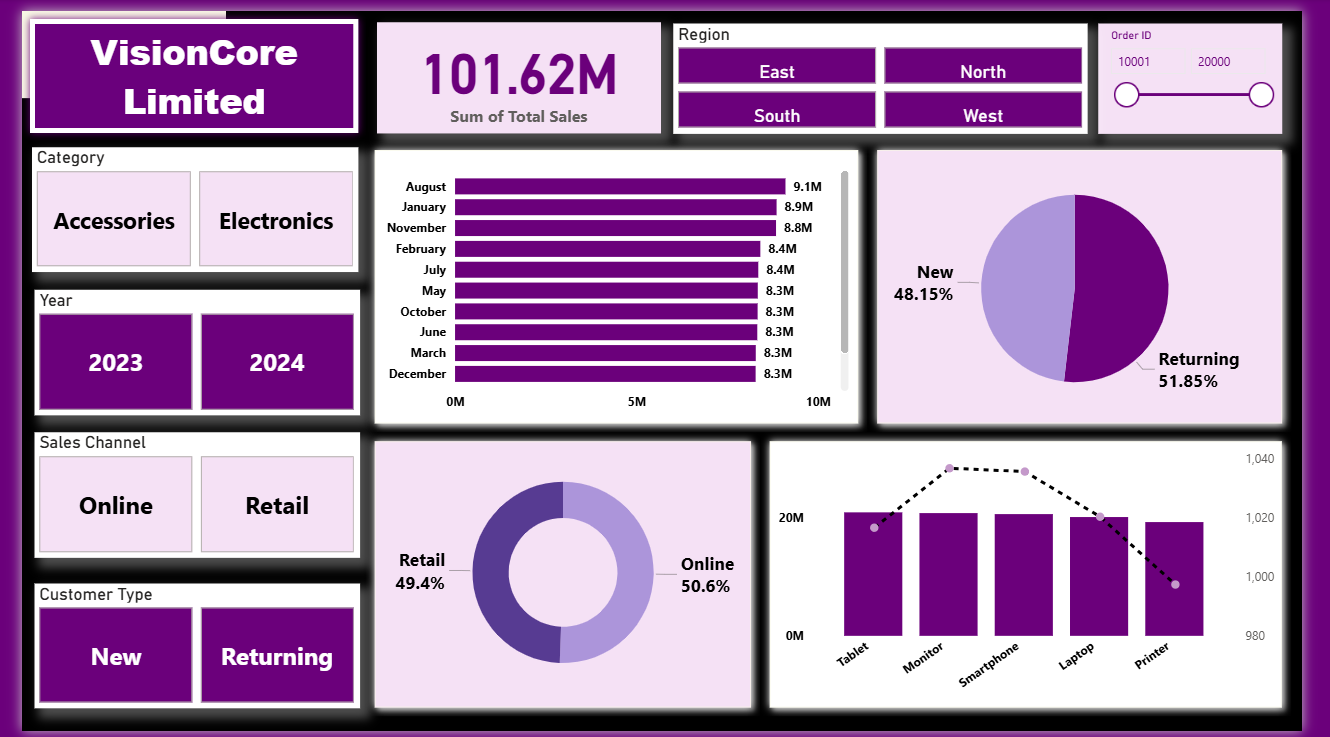

What the dashboard file says about the page in this screenshot:
{"tool":"powerbi","page":{"name":"Page 1","canvas":[1280,720],"ordinal":0},"visuals":[{"type":"shape","box":[0,0,204.3,87.1],"z":0},{"type":"shape","box":[0,0,344.3,130],"z":1000},{"type":"card","fields":{"Values":["Sum(Sheet1.Total Sales)"]},"box":[355.4,11,284,111.1],"z":2000},{"type":"slicer","fields":{"Values":["Sheet1.Order ID"]},"box":[1075.7,12.9,184.3,110],"z":3000},{"type":"advancedSlicerVisual","fields":{"Values":["Sheet1.Region"]},"box":[651.4,12.9,414.3,110],"z":4000},{"type":"advancedSlicerVisual","fields":{"Values":["Sheet1.Category"]},"box":[9.6,135.8,326.6,125],"z":5000},{"type":"advancedSlicerVisual","fields":{"Values":["Sheet1.Order Date.Variation.Date Hierarchy.Year"]},"box":[12.9,278.6,325.7,125.7],"z":6000},{"type":"advancedSlicerVisual","fields":{"Values":["Sheet1.Sales Channel"]},"box":[12.9,421.4,325.7,125.7],"z":7000},{"type":"advancedSlicerVisual","fields":{"Values":["Sheet1.Customer Type"]},"box":[12.9,572.9,325.7,125],"z":8000},{"type":"shape","box":[344.3,130,501.4,291.4],"z":9000},{"type":"shape","box":[344.3,421.4,394.3,284.3],"z":10000},{"type":"shape","box":[845.7,130,422.9,291.4],"z":11000},{"type":"shape","box":[738.6,421.4,530,284.3],"z":12000},{"type":"clusteredBarChart","fields":{"Category":["Sheet1.Month"],"Y":["Sum(Sheet1.Total Sales)"]},"box":[355.7,145.7,475.7,262.9],"z":13000},{"type":"lineStackedColumnComboChart","fields":{"Category":["Sheet1.Product"],"Y":["Sum(Sheet1.Total Sales)"],"Y2":["Avg(Sheet1.Unit Price)"]},"box":[751.4,434.3,508.6,264.3],"z":14000},{"type":"pieChart","fields":{"Category":["Sheet1.Customer Type"],"Y":["Sum(Sheet1.Total Sales)"]},"box":[858.6,145.7,388.6,262.9],"z":15000},{"type":"donutChart","fields":{"Category":["Sheet1.Sales Channel"],"Y":["Sum(Sheet1.Total Sales)"]},"box":[355.7,434.3,370,255.7],"z":16000}]}

Visuals, with their boxes in screenshot pixels (x1, y1, x2, y2), scaled from the page's 1280x720 canvas onto the 1330x737 screenshot:
shape: Rect(0, 0, 212, 89)
shape: Rect(0, 0, 358, 133)
card - Sum(Sheet1.Total Sales): Rect(369, 11, 664, 125)
slicer - Sheet1.Order ID: Rect(1118, 13, 1309, 126)
advancedSlicerVisual - Sheet1.Region: Rect(677, 13, 1107, 126)
advancedSlicerVisual - Sheet1.Category: Rect(10, 139, 349, 267)
advancedSlicerVisual - Sheet1.Order Date.Variation.Date Hierarchy.Year: Rect(13, 285, 352, 414)
advancedSlicerVisual - Sheet1.Sales Channel: Rect(13, 431, 352, 560)
advancedSlicerVisual - Sheet1.Customer Type: Rect(13, 586, 352, 714)
shape: Rect(358, 133, 879, 431)
shape: Rect(358, 431, 767, 722)
shape: Rect(879, 133, 1318, 431)
shape: Rect(767, 431, 1318, 722)
clusteredBarChart - Sheet1.Month x Sum(Sheet1.Total Sales): Rect(370, 149, 864, 418)
lineStackedColumnComboChart - Sheet1.Product x Sum(Sheet1.Total Sales): Rect(781, 445, 1309, 715)
pieChart - Sheet1.Customer Type x Sum(Sheet1.Total Sales): Rect(892, 149, 1296, 418)
donutChart - Sheet1.Sales Channel x Sum(Sheet1.Total Sales): Rect(370, 445, 754, 706)
